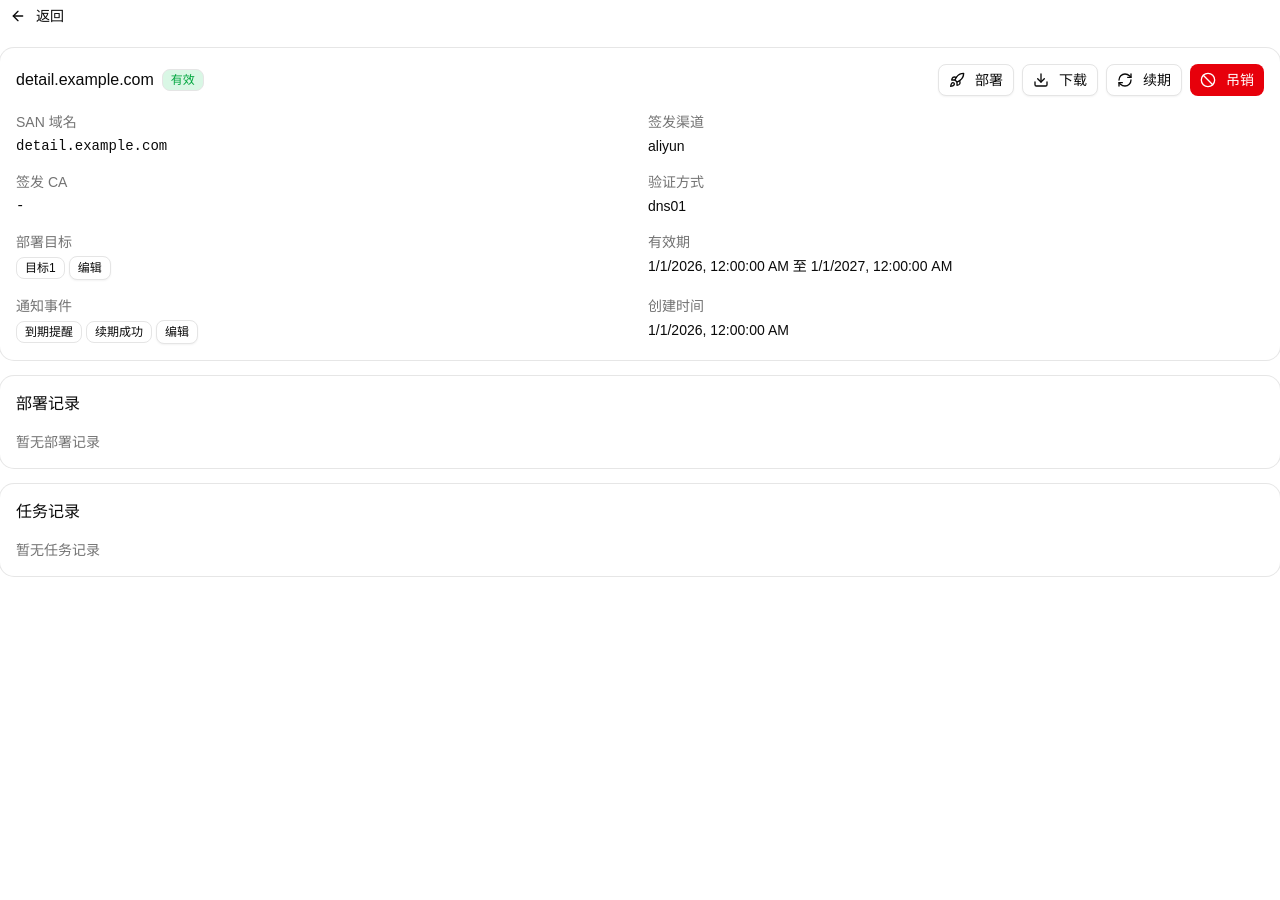
it: CertificateDetailPage 操作按钮守卫 › 云厂商证书：吊销对话框显示云厂商不支持吊销的提示
Click the button "吊销" at coordinates (1227, 80), box x1=1190 y1=64 x2=1264 y2=96
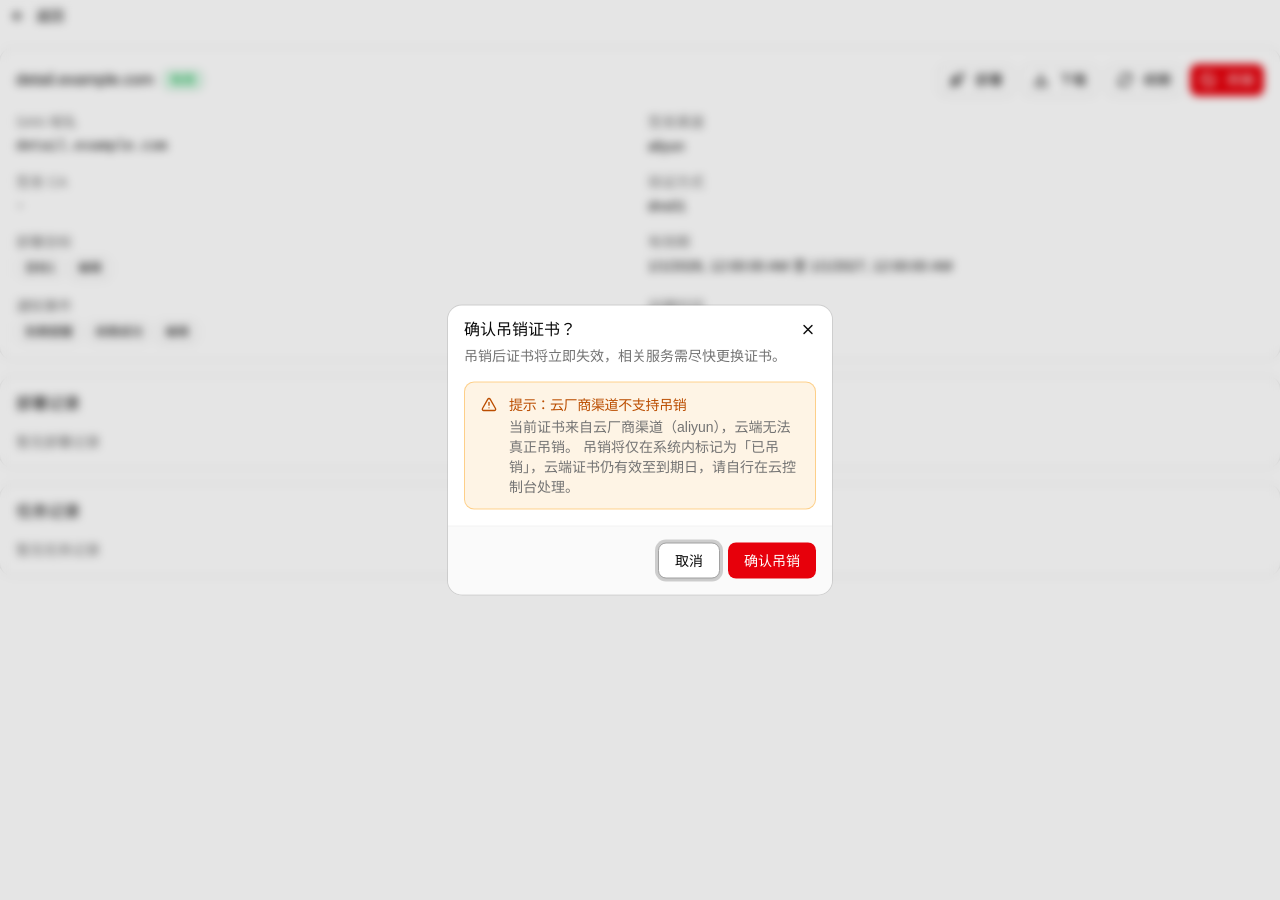
Now the heading "确认吊销证书？" is shown, box x1=464 y1=320 x2=576 y2=338
Now the heading "提示：云厂商渠道不支持吊销" is shown, box x1=509 y1=396 x2=686 y2=412
Now the text "云控制台" is shown, box x1=509 y1=418 x2=796 y2=494
